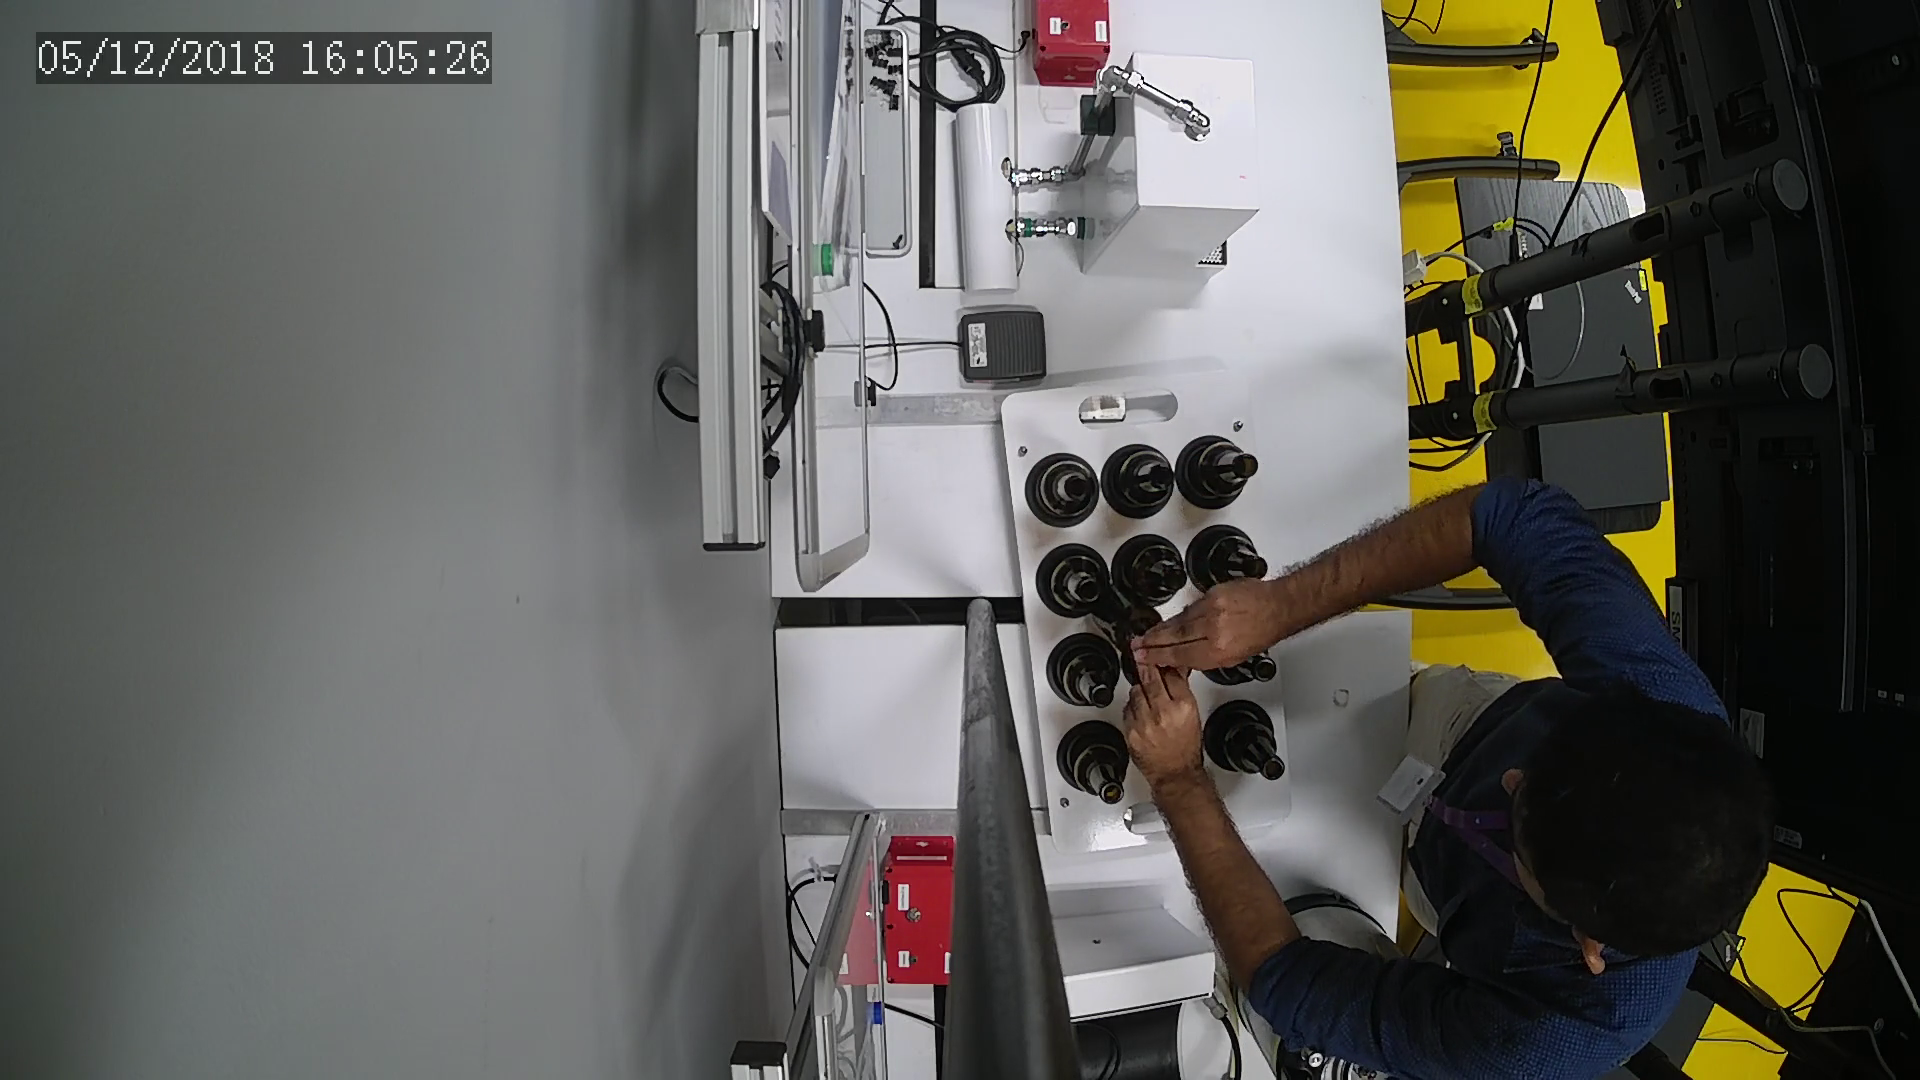filled_bottle: (1174, 429, 1266, 513), (1098, 433, 1179, 524), (1031, 541, 1116, 626), (1179, 518, 1273, 595), (1204, 695, 1283, 785), (1058, 717, 1133, 811), (1025, 451, 1106, 534), (1044, 628, 1122, 715), (1118, 530, 1185, 615)
trolley: (997, 367, 1302, 849)
